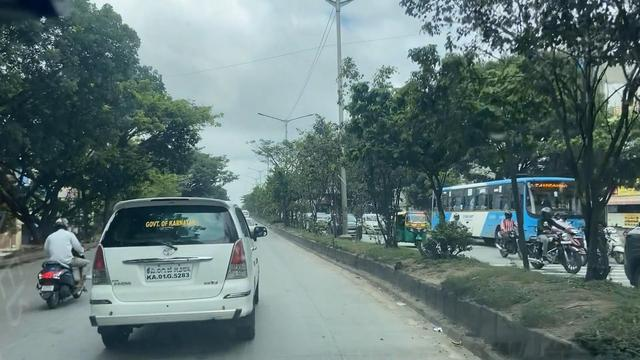HMV: (429, 171, 597, 257)
